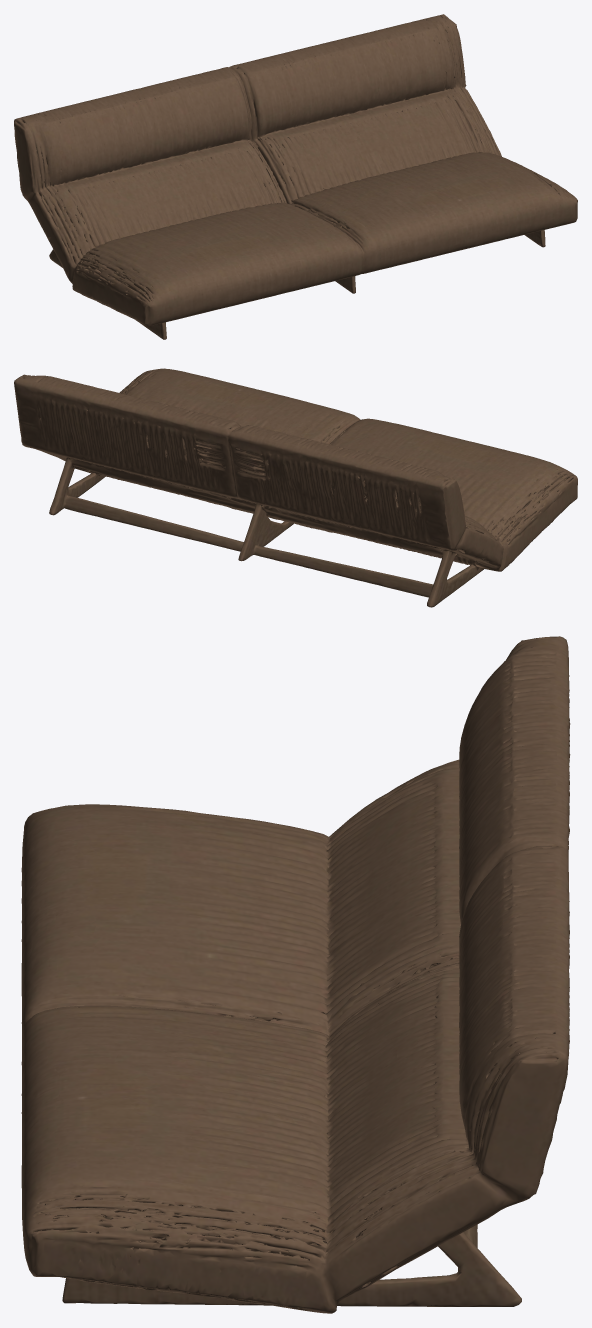
File: Modern Armless Low-Profile Ribbed Sofa [n24VvH].glb
The picture shows the model from 3 angles, top to bottom: view 1: azimuth 30°, elevation 25°; view 2: azimuth 150°, elevation 25°; view 3: azimuth 270°, elevation 25°; orthographic projection. The views are drawn at different scales.
Parts seen in each view (by area): view 1: world; view 2: world; view 3: world.
Part boxes in pixels (x1,y1,x2,y2): world: (14,14,577,339); world: (14,368,577,607); world: (21,636,570,1313).
Bounding box in the file's own units: 1 × 0.3087 × 0.5475.
1 material, 1 textured.
